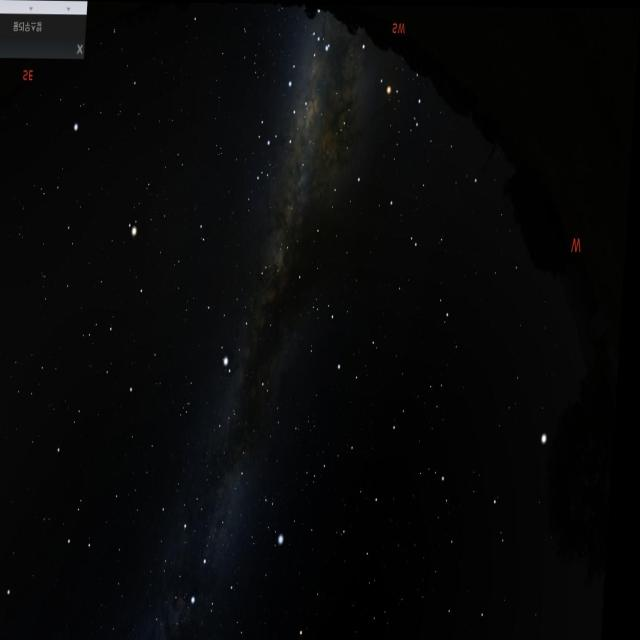aquila: (198, 242, 288, 394)
bootes: (407, 410, 560, 632)
cygnus: (181, 441, 258, 617)
lyra: (256, 484, 301, 546)
sagittarius: (251, 70, 311, 186)
scorpius: (300, 22, 432, 152)
